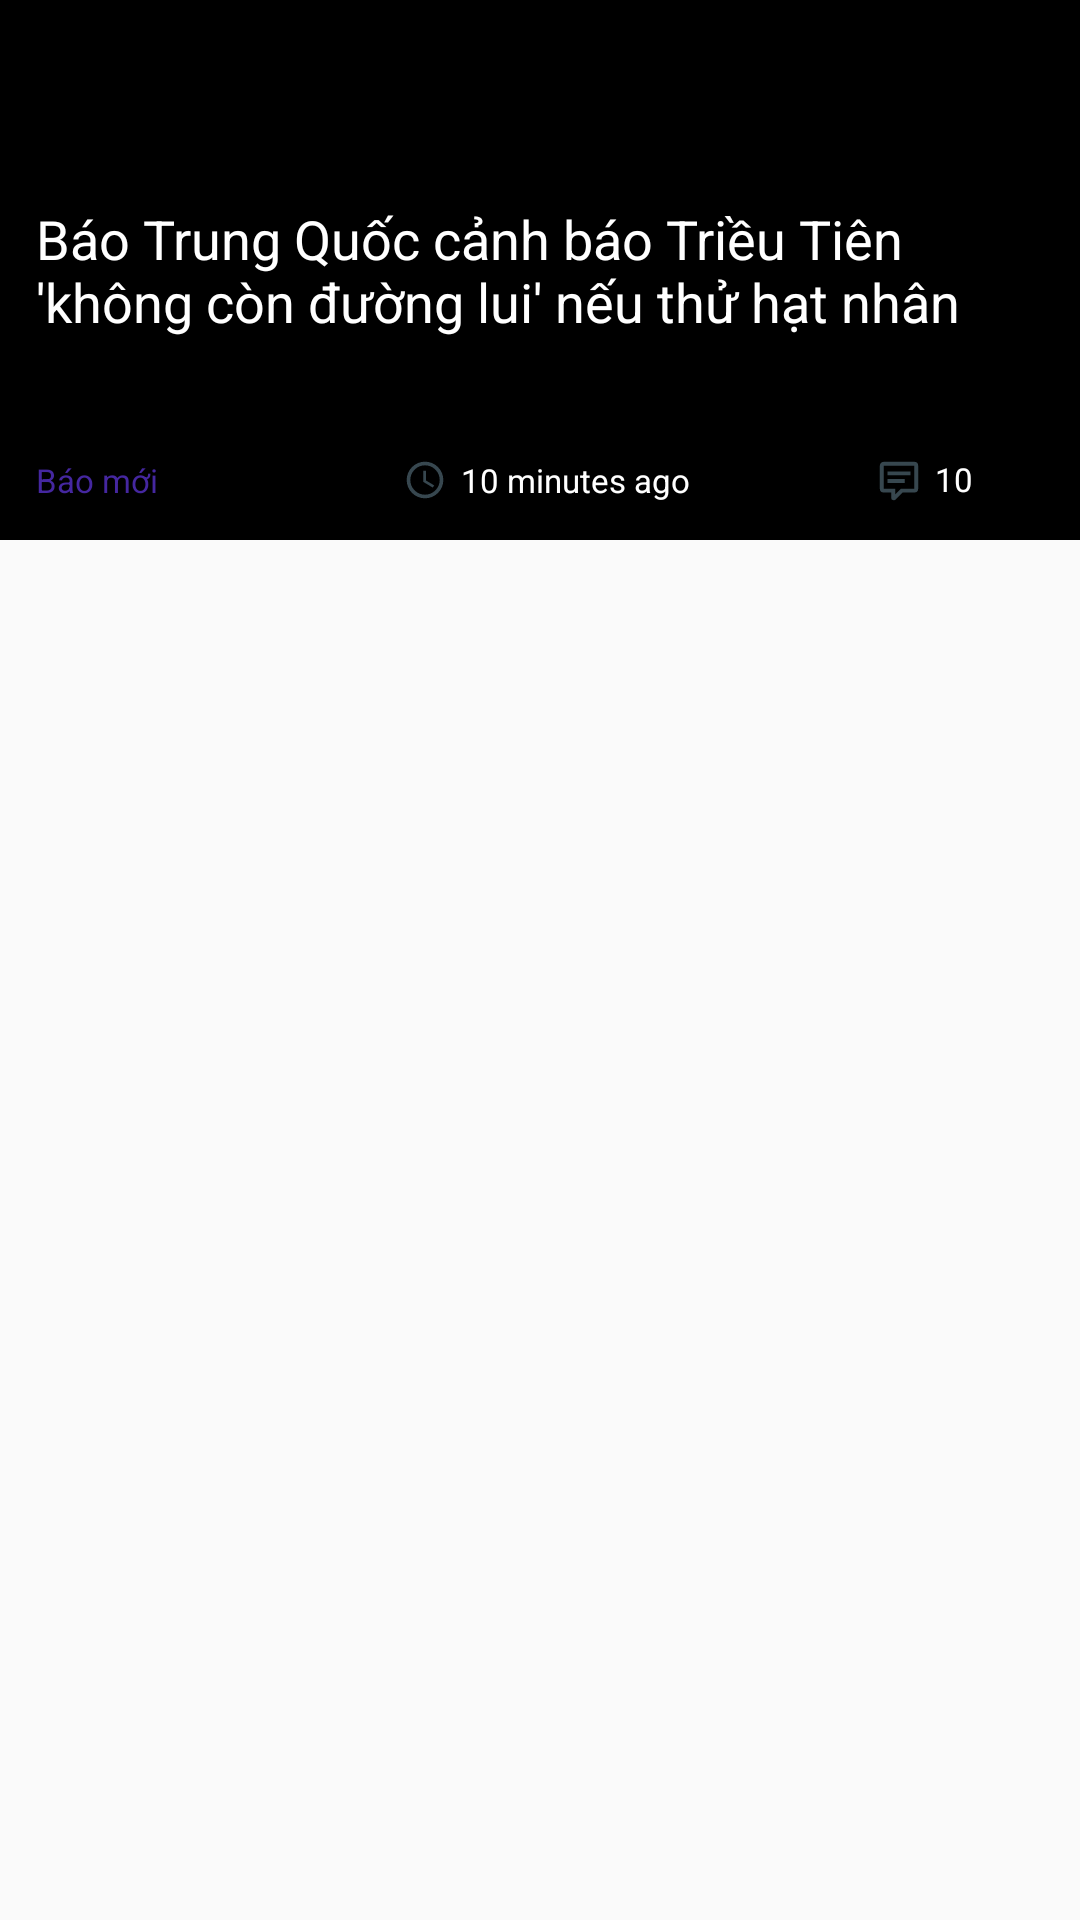

Named icons in this screenshot (1080 × 1920) and their centers, (x,y):
clock news item: (425,480)
comment text: (899,481)
